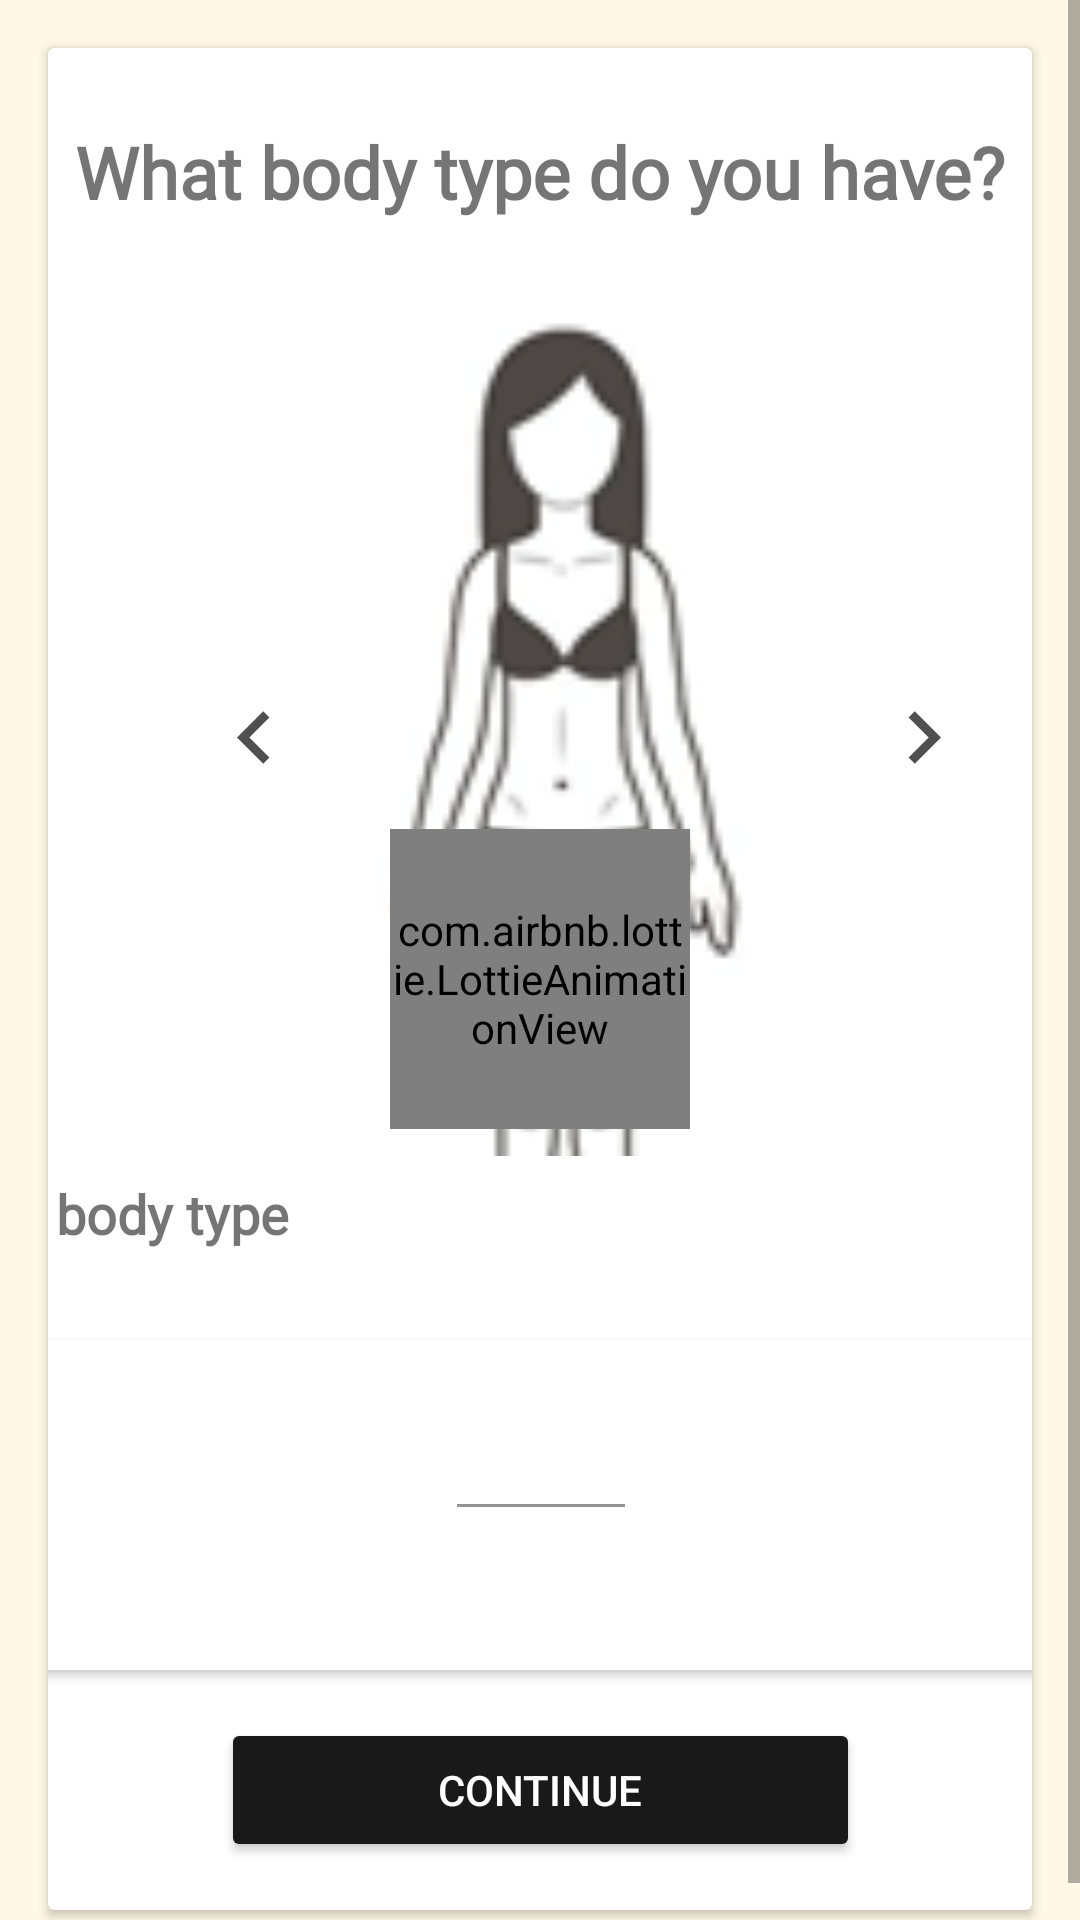

Screen size 1080x1920. Icon name, then its center in pixels as (x=x, y=y):
left: (x=253, y=737)
right: (x=924, y=737)
